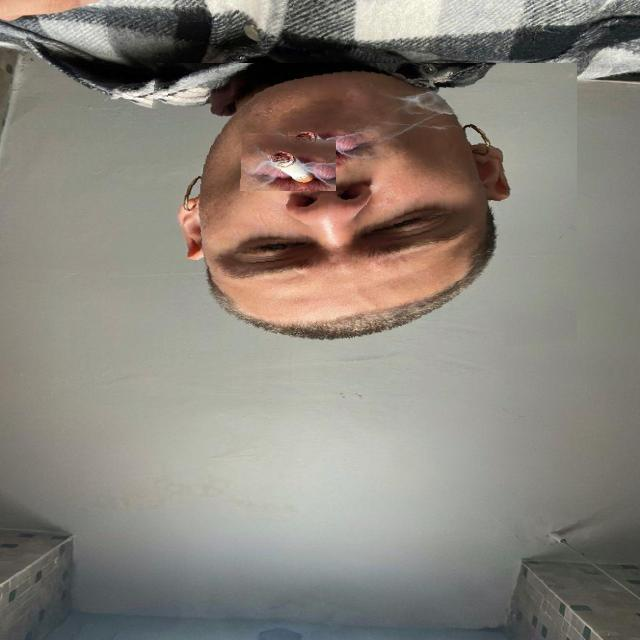cigarette: (240, 132, 336, 191)
